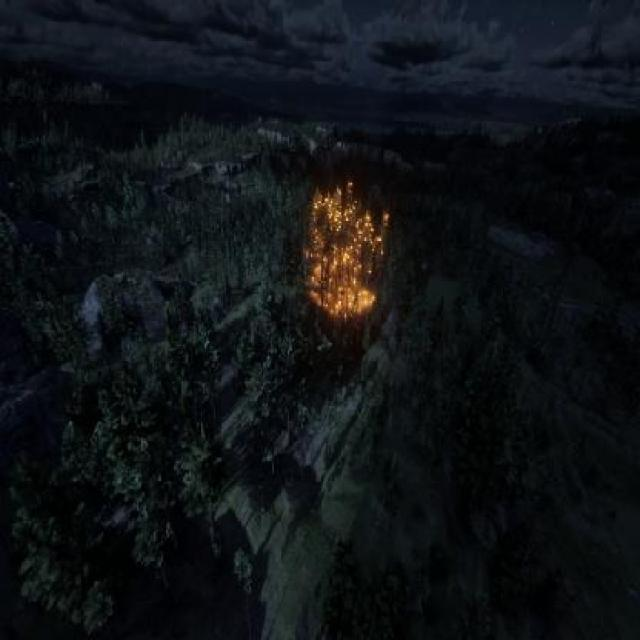Fire: (289, 163, 403, 341)
